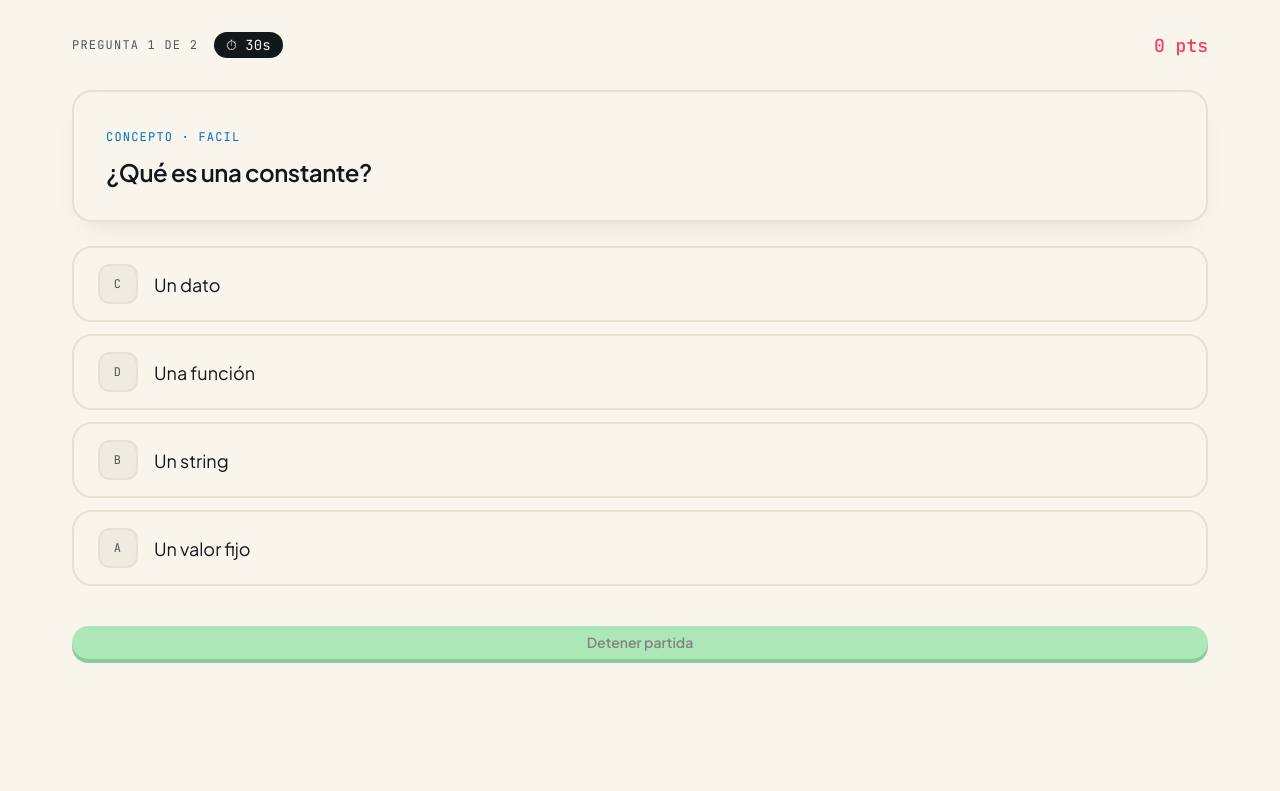
Quiz - feedback › muestra feedback de error con la respuesta correcta al fallar
The width and height of the screenshot is (1280, 791).
// Se elige una opcion incorrecta (C en lugar de la A correcta).
Click the button "C Un dato" at (118, 284), box [72,246,1208,322]
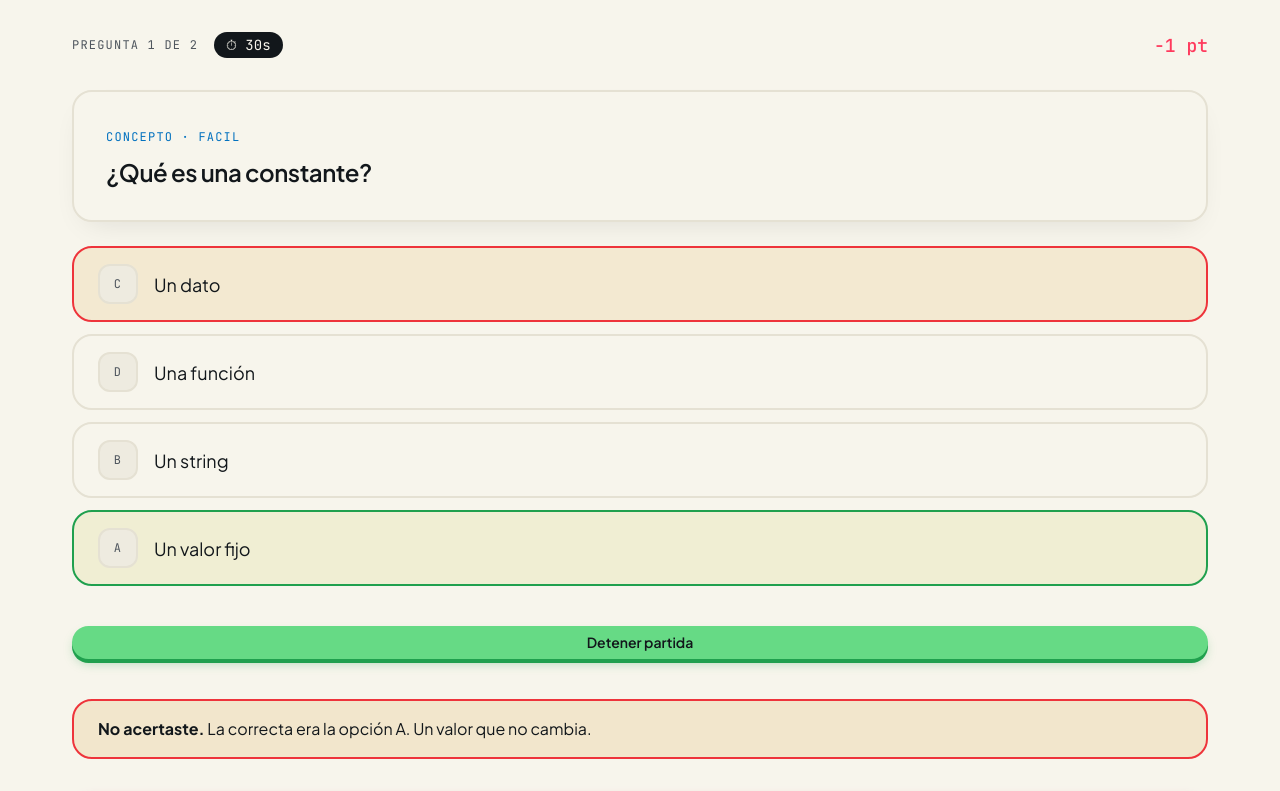
Now the text "No acertaste." is shown, box [98,718,205,739]
Now the text "La correcta era la opción A" is shown, box [72,699,1208,759]
